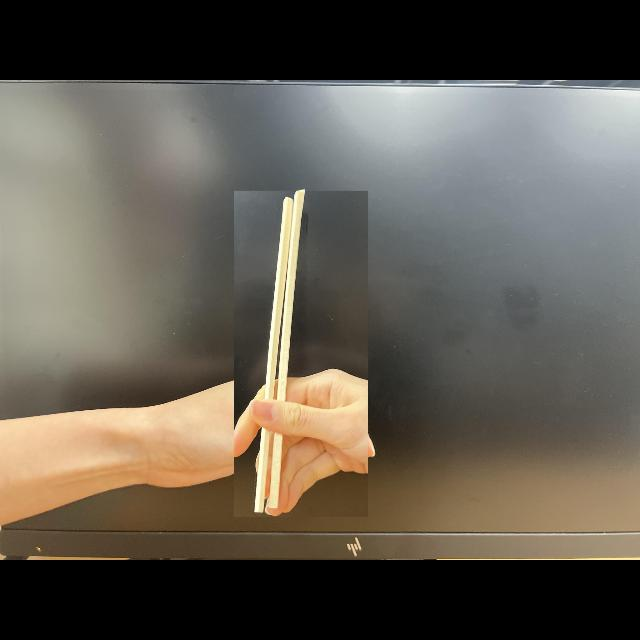stick: (234, 191, 368, 517)
